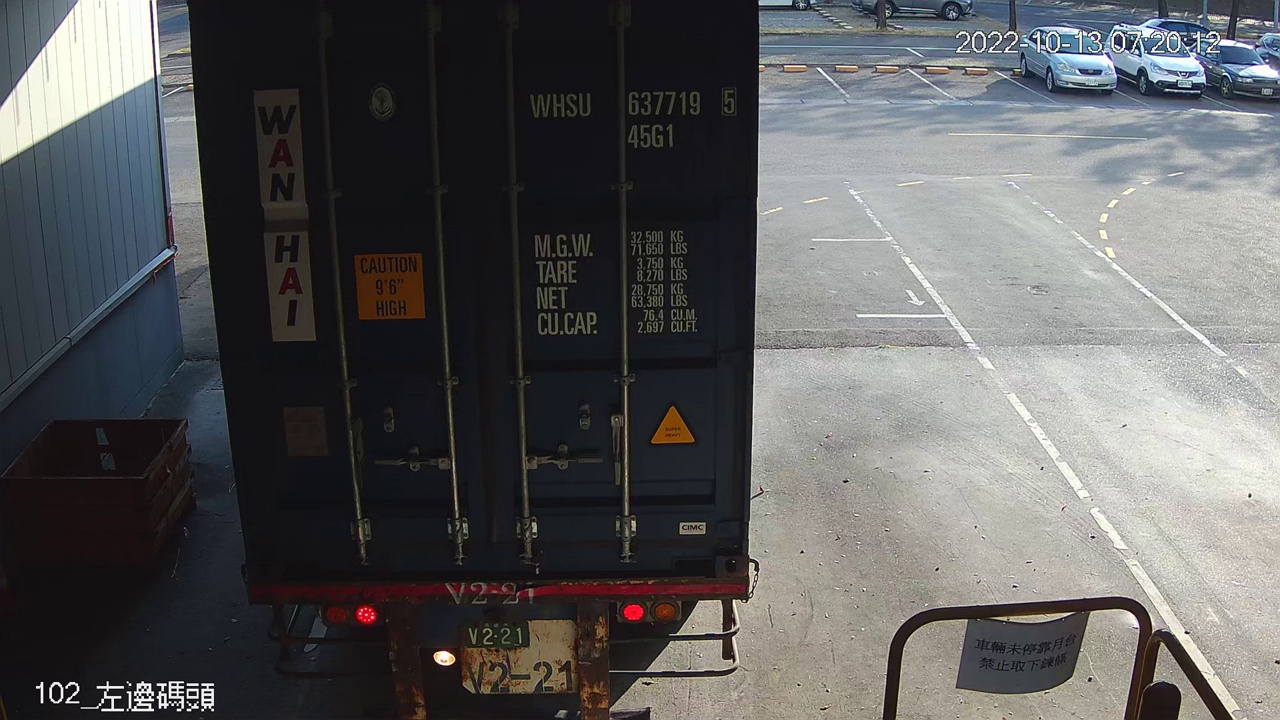container: (521, 78, 745, 156)
